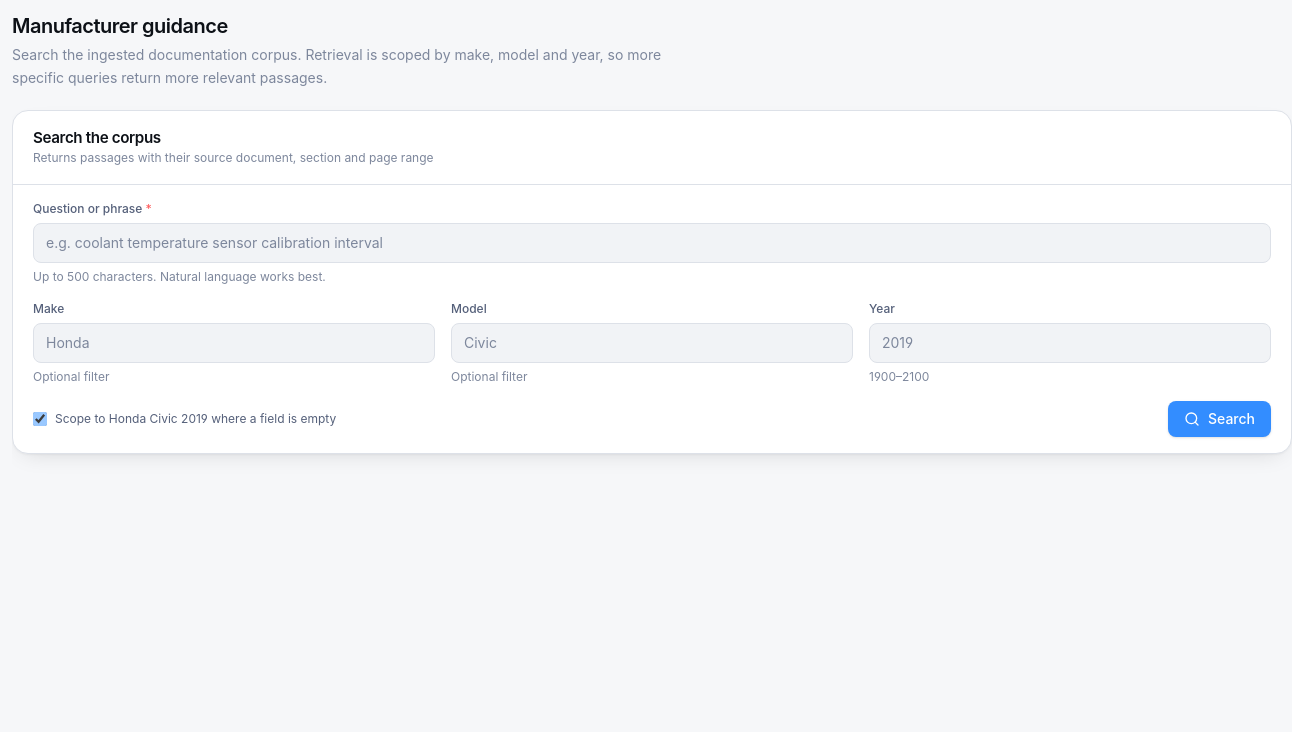
RagSearchView › shows a 503 from the route as a retrieval outage
Type "brake wear" into the field labelled "Question or phrase *" at (652, 243), box [33,223,1271,263]
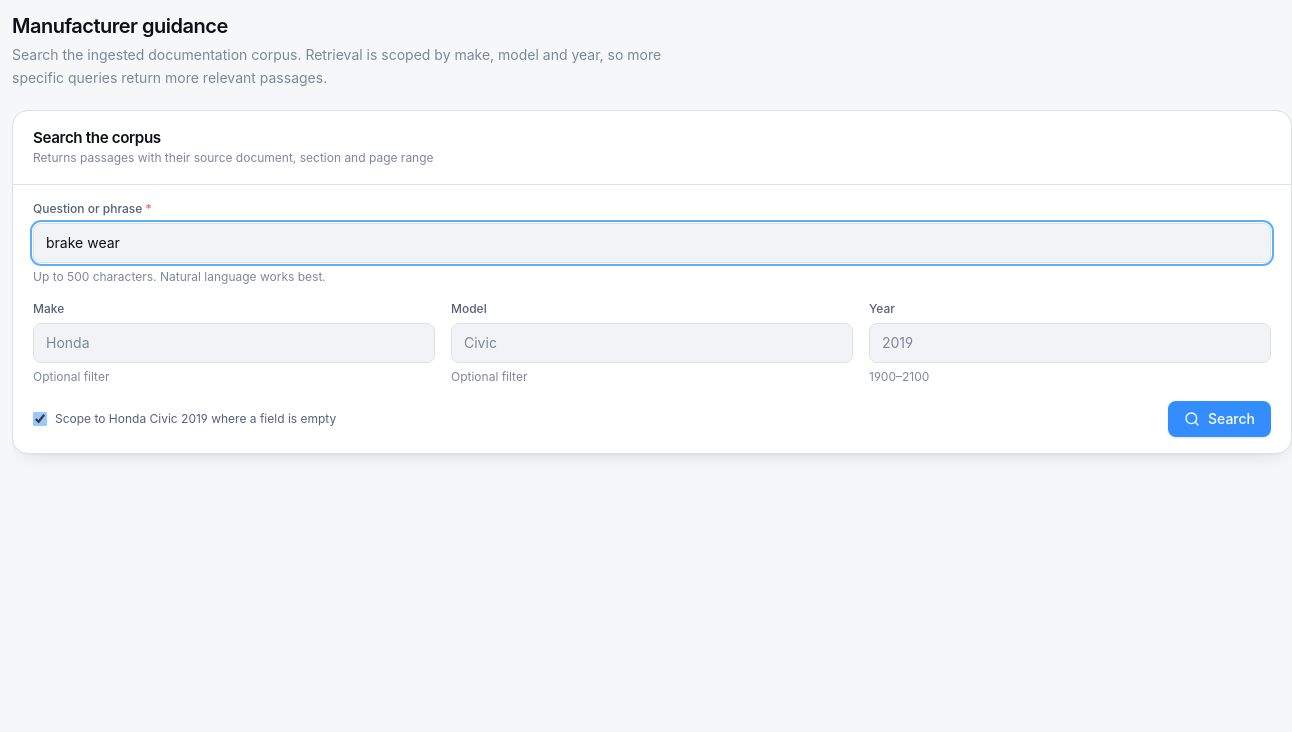
Click the button "Search" at (1220, 419), box [1168,401,1271,437]
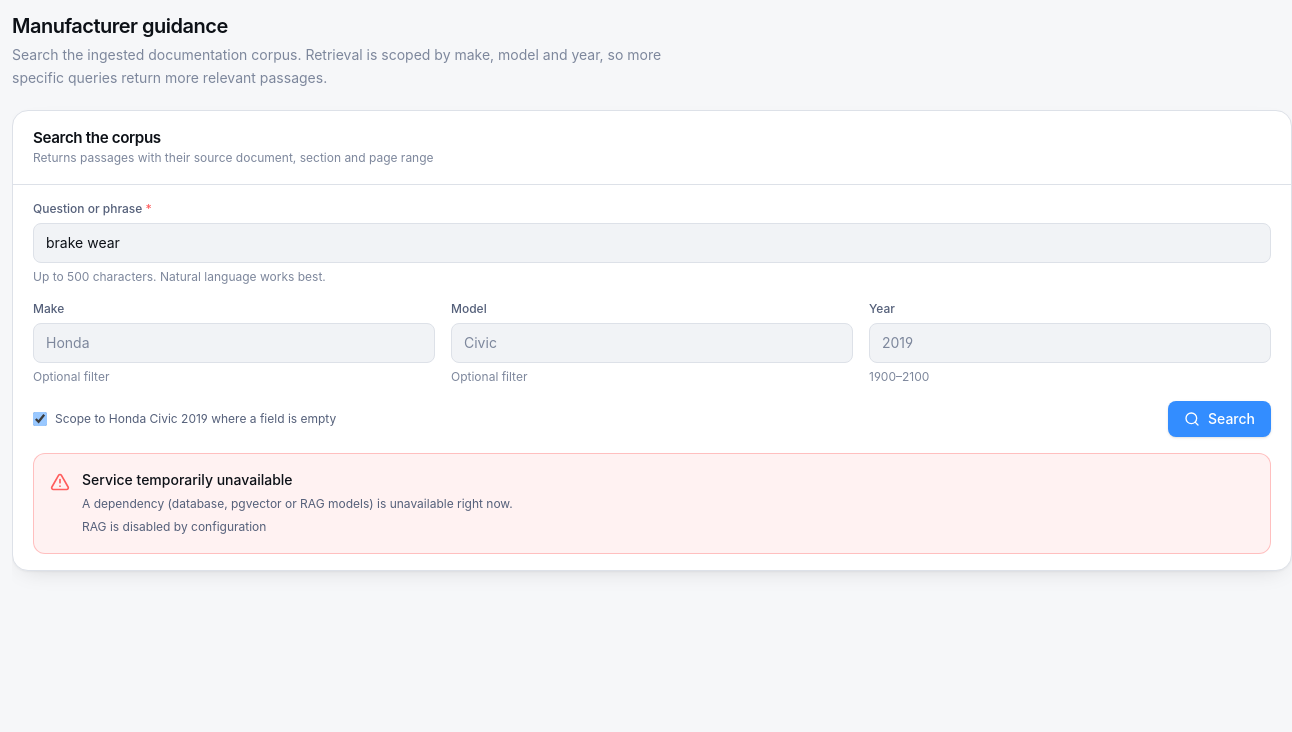
Check: the message shows "RAG is disabled by configuration", box [82,519,266,534]
